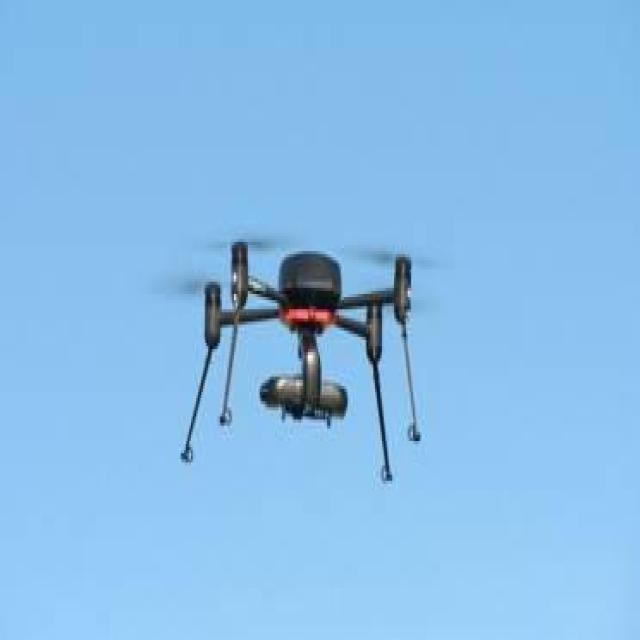drone: (142, 188, 472, 540)
